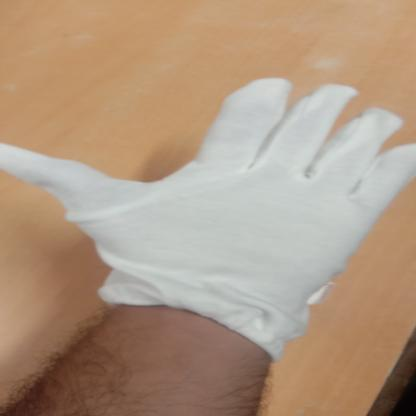gloved_hand: (0, 76, 416, 363)
